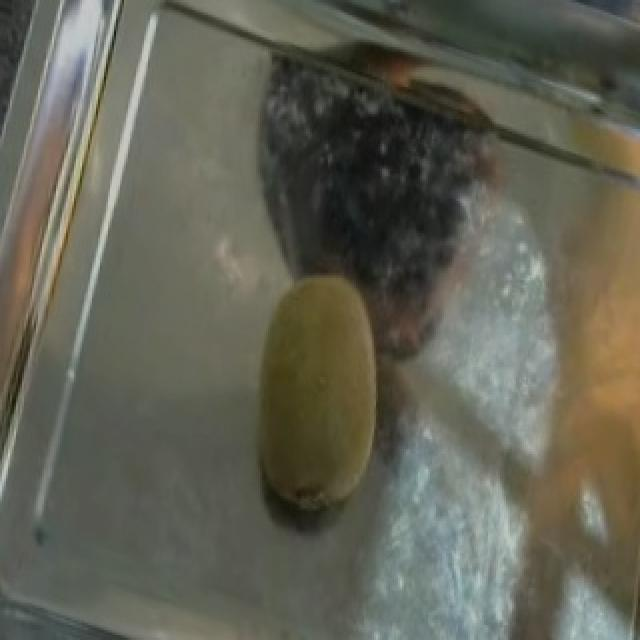Fruit: (216, 238, 424, 546), (464, 325, 640, 640)
